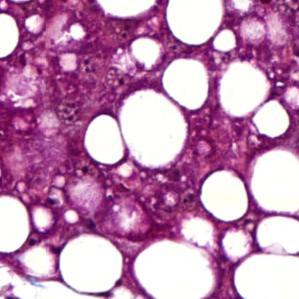steatosis: (55, 236, 129, 294), (160, 54, 213, 112), (196, 168, 250, 222), (80, 109, 126, 167)
